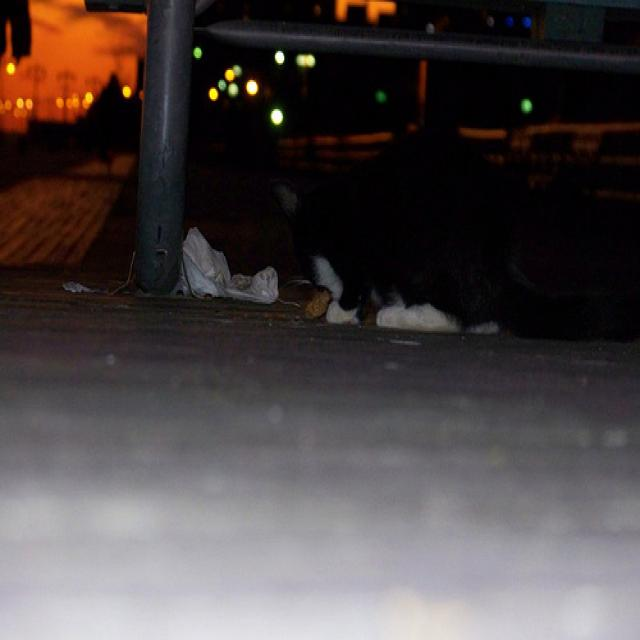Cat: (283, 136, 606, 377)
